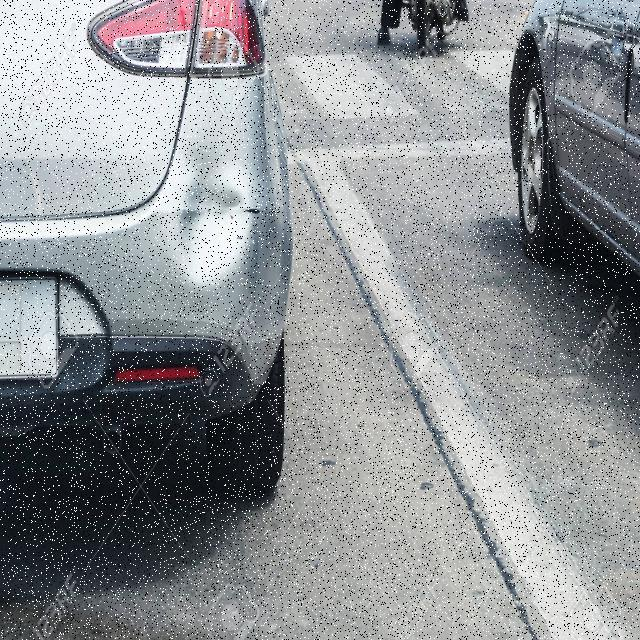rear-bumper-dent: (0, 136, 286, 416)
